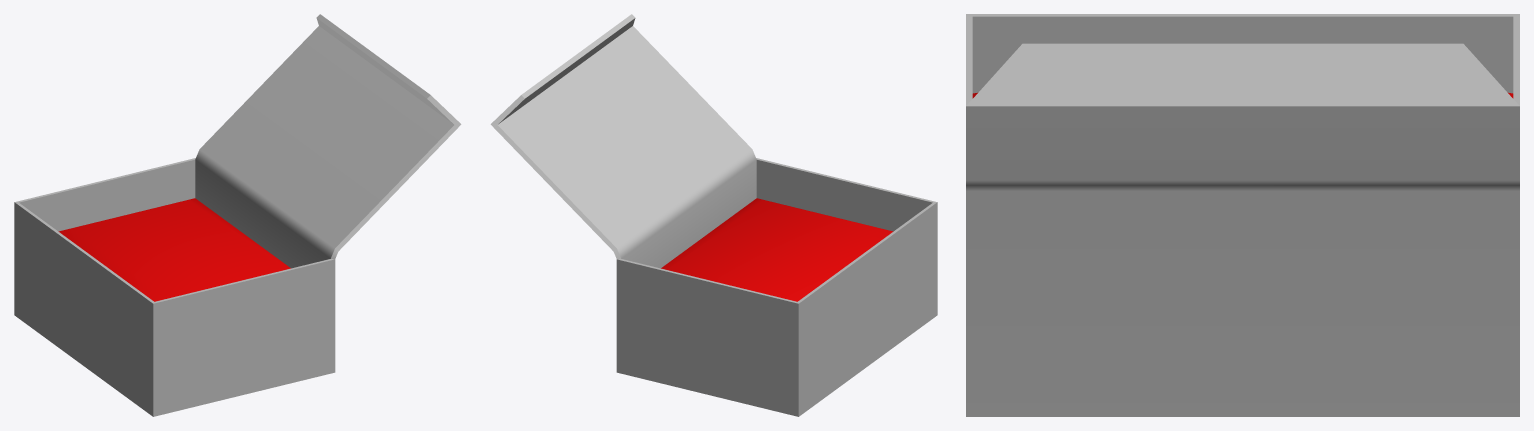
Rendered from TackBox.fbx.
3 renders of one model, left to right at view 1: azimuth 30°, elevation 25°; view 2: azimuth 150°, elevation 25°; view 3: azimuth 270°, elevation 25°, orthographic. The views are drawn at different scales.
Parts seen in each view (by area): view 1: TackBox1; view 2: TackBox1; view 3: TackBox1.
Part boxes in pixels (<box>): TackBox1: <box>14,14,461,416</box>; TackBox1: <box>490,14,937,416</box>; TackBox1: <box>966,14,1519,416</box>.
Size of the model in its own units: 118 by 88.22 by 92.26.
